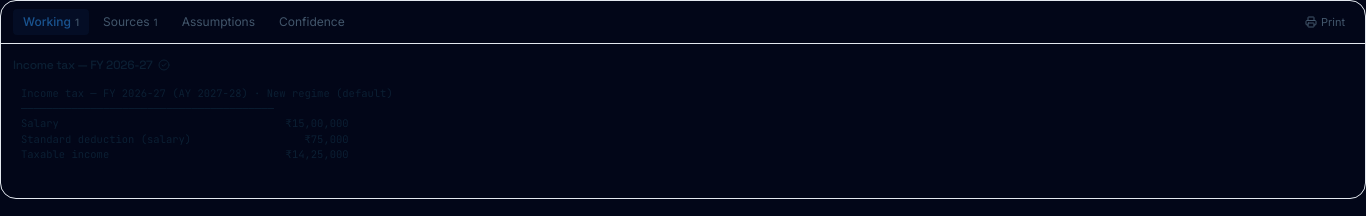
Test case: Sources › lists the provision, what it decided and when it was checked
Step 1. Click the tab "Sources1" → (130, 22), box [93, 9, 168, 35]
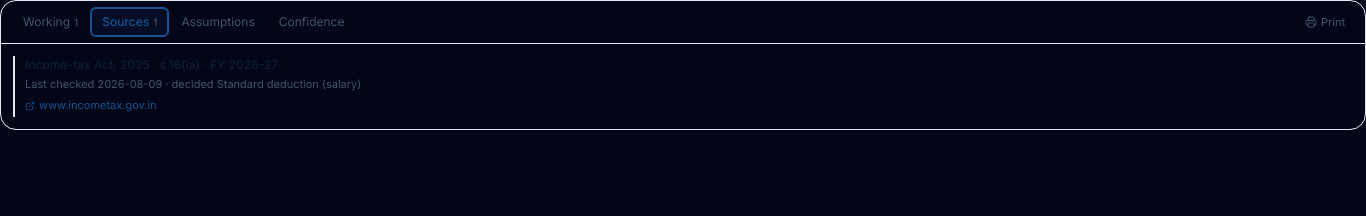
expect the panel named "sources" shows "s.16(ia)": met, box [25, 57, 278, 72]
expect the panel named "sources" shows "Standard deduction (salary)": met, box [217, 77, 361, 91]
expect the panel named "sources" shows "2026-08-09": met, box [97, 77, 162, 91]
